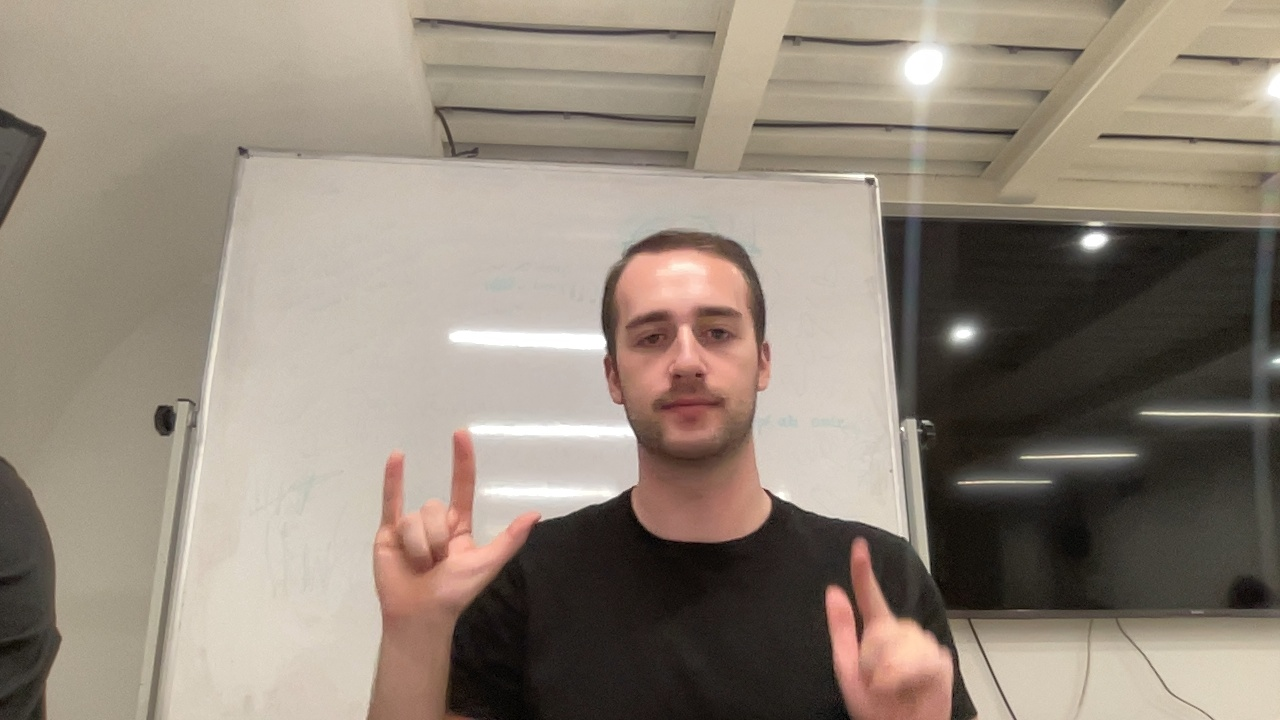I Love You: (369, 421, 544, 646)
